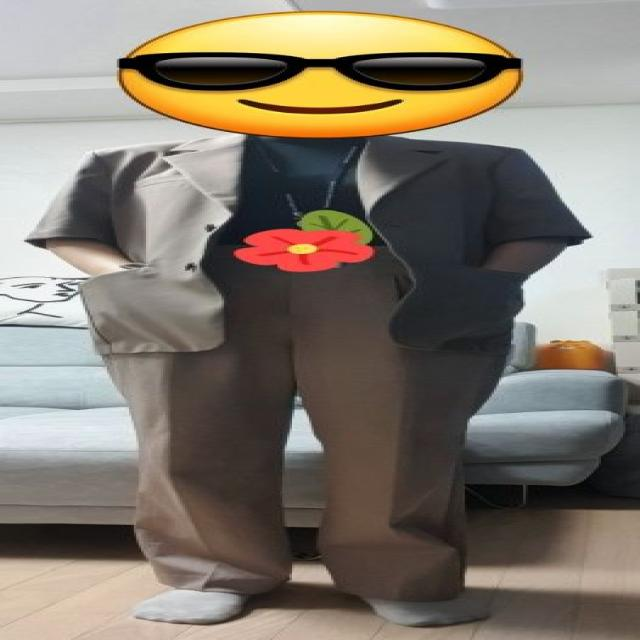blazer: (21, 130, 592, 354)
slacks: (102, 248, 520, 600)
